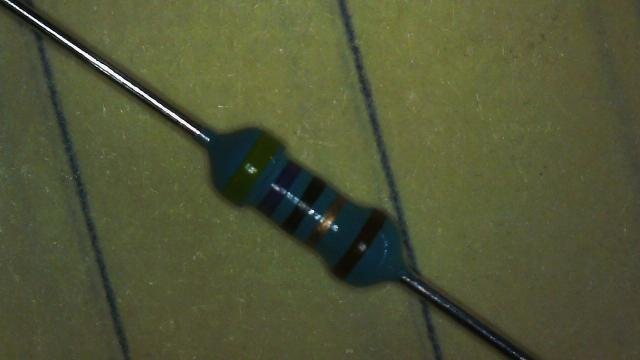black: (281, 177, 326, 234)
brown: (332, 209, 387, 279)
gold: (308, 195, 347, 248)
resistor: (198, 95, 413, 294)
violet: (258, 160, 302, 217)
yellow: (222, 132, 282, 204)
